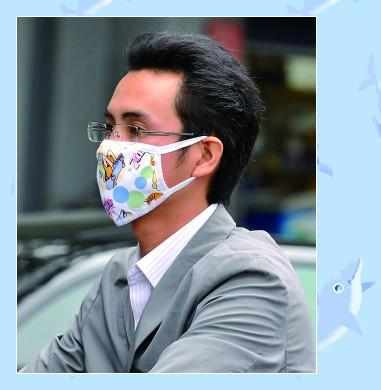OK: (101, 108, 217, 224)
